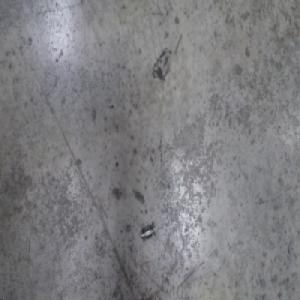Bolt: (140, 223, 156, 244)
